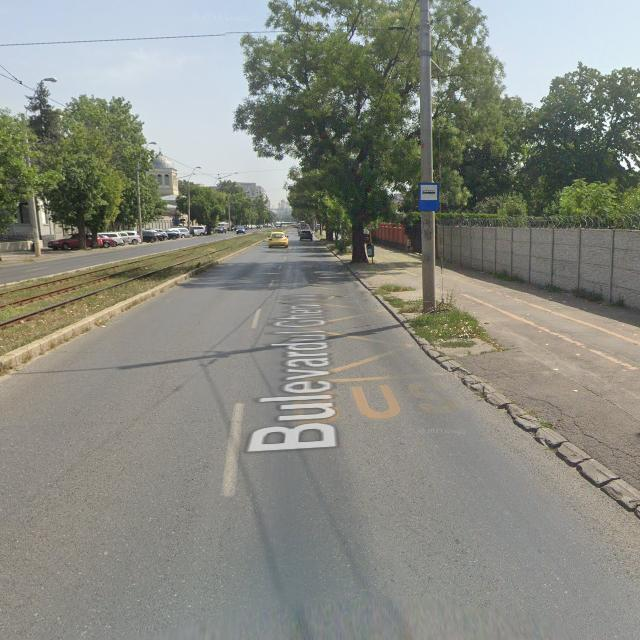info_bus_station: (418, 182, 439, 210)
